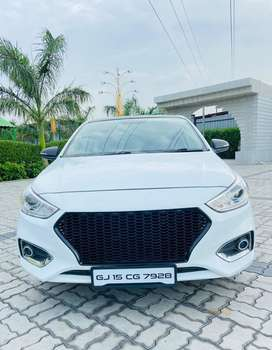GJ1SCG7928: (92, 267, 174, 285)
